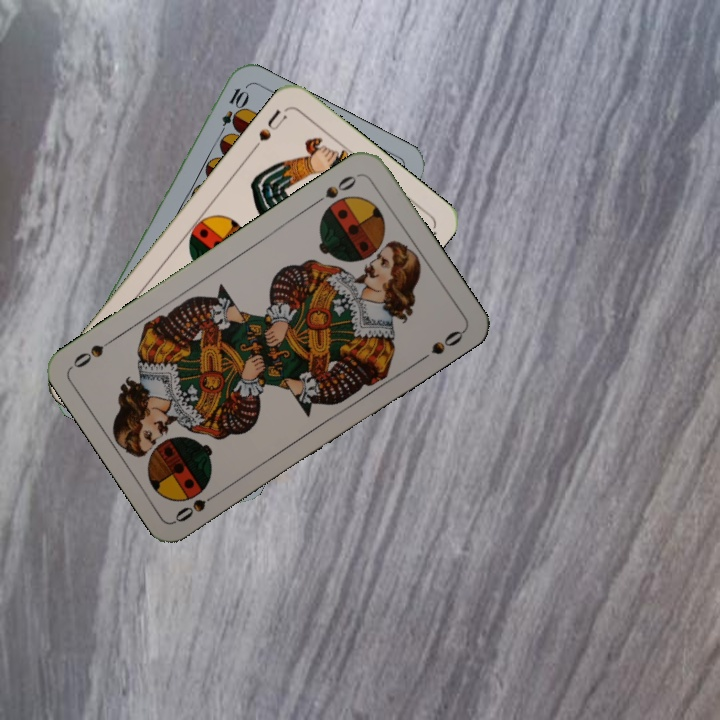E10: (214, 84, 250, 141)
SO: (171, 486, 225, 525), (309, 171, 359, 208)
SU: (248, 105, 290, 154)
